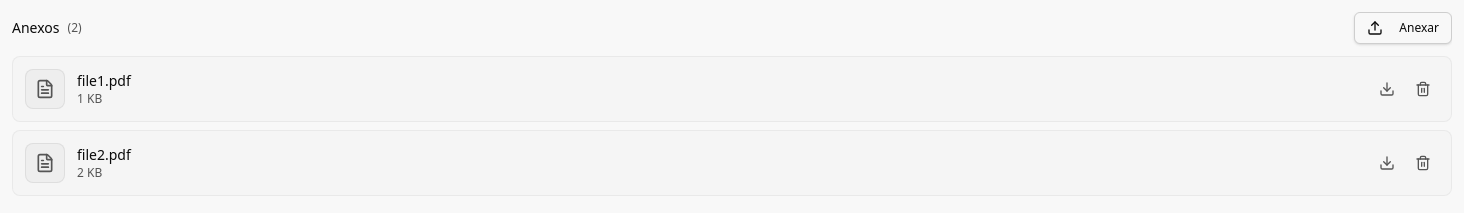
it: FileForm › File Actions › should handle file deletion
The image size is (1464, 213).
Expected: the text "file1.pdf" is shown, [77,71,131,90]
Expected: the text "file2.pdf" is shown, [77,145,131,164]
Click the button named "Excluir" in the row of "file1.pdf" at (1423, 89), box [1407,73,1439,105]
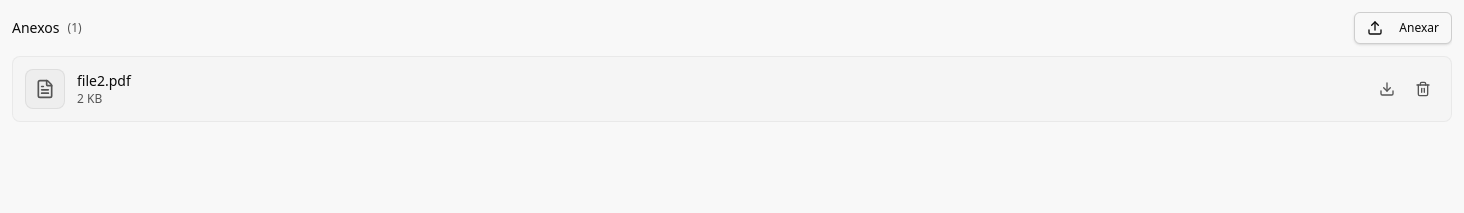
Expected: the text "file2.pdf" is shown, [77,71,131,90]
Expected: the text "file1.pdf" is gone
